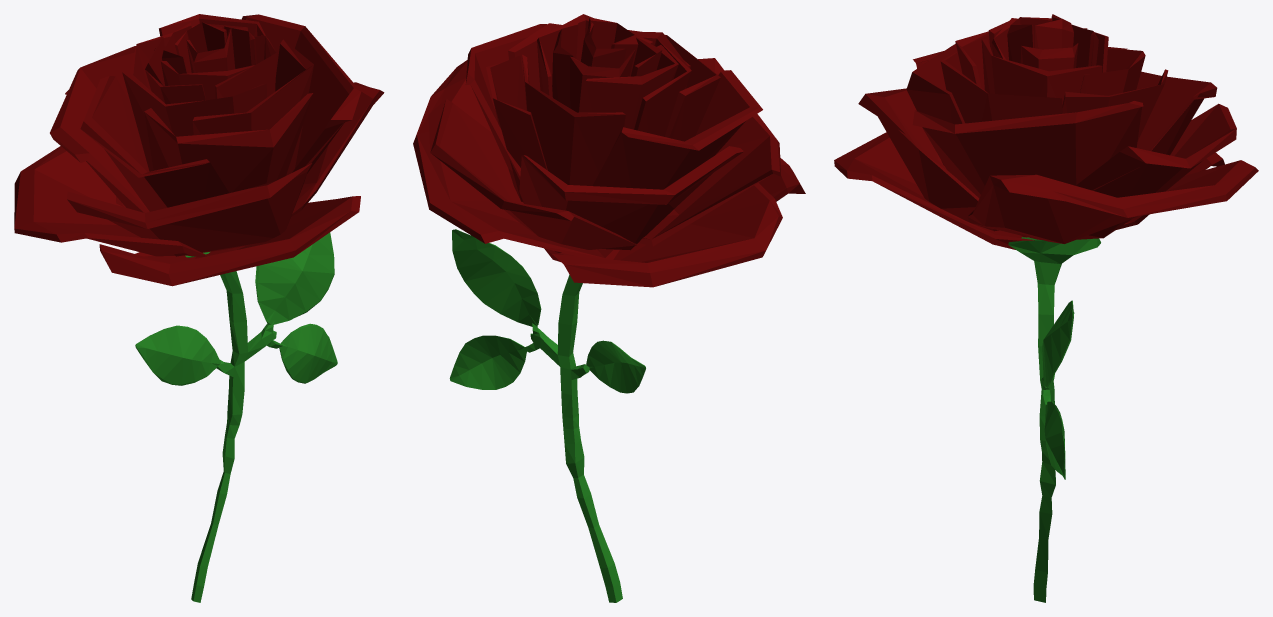
File: rose.obj
3 renders of one model, left to right at view 1: azimuth 30°, elevation 25°; view 2: azimuth 150°, elevation 25°; view 3: azimuth 270°, elevation 25°, orthographic. The views are drawn at different scales.
Parts seen in each view (by area): view 1: rose pCube4, rose pCube21, rose pCube12, rose pCube20, rose pCube6, rose pCube3, rose pCube22 rose_bottom, rose pCube5, rose rose_bottom pCube23, rose pCube7, rose pCube13, rose rose_bottom pCube25 (+11 smaller); view 2: rose pCube21, rose pCube26, rose pCube6, rose pCube19, rose pCube5, rose pCube22 rose_bottom, rose pCube8, rose pCube4, rose rose_bottom pCube23, rose pCube11, rose rose_bottom pCube24, rose pCube9 (+12 smaller); view 3: rose pCube3, rose pCube19, rose pCube26, rose pCube22 rose_bottom, rose pCube4, rose pCube20, rose pCube5, rose pCube7, rose pCube14, rose pCube12, rose pCube8, rose pCube11 (+8 smaller).
Part boxes in pixels (<box>): rose pCube4: <box>67,163,312,256</box>; rose pCube21: <box>14,146,207,257</box>; rose pCube12: <box>144,93,313,192</box>; rose pCube20: <box>99,196,360,286</box>; rose pCube6: <box>80,76,229,211</box>; rose pCube3: <box>241,14,360,173</box>; rose pCube22 rose_bottom: <box>185,252,282,602</box>; rose pCube5: <box>50,46,149,212</box>; rose rose_bottom pCube23: <box>255,232,334,324</box>; rose pCube7: <box>192,39,313,175</box>; rose pCube13: <box>122,71,266,171</box>; rose rose_bottom pCube25: <box>135,325,220,385</box>; rose pCube21: <box>544,182,782,287</box>; rose pCube26: <box>428,98,636,252</box>; rose pCube6: <box>592,70,762,189</box>; rose pCube19: <box>413,60,619,259</box>; rose pCube5: <box>519,146,743,250</box>; rose pCube22 rose_bottom: <box>521,274,622,602</box>; rose pCube8: <box>522,54,625,185</box>; rose pCube4: <box>638,58,781,246</box>; rose rose_bottom pCube23: <box>452,229,541,326</box>; rose pCube11: <box>486,55,547,201</box>; rose rose_bottom pCube24: <box>449,335,526,389</box>; rose pCube9: <box>580,45,678,129</box>; rose pCube3: <box>912,101,1143,236</box>; rose pCube19: <box>967,160,1258,243</box>; rose pCube26: <box>1076,103,1236,239</box>; rose pCube22 rose_bottom: <box>1008,237,1100,602</box>; rose pCube4: <box>858,88,1014,235</box>; rose pCube20: <box>834,132,1034,249</box>; rose pCube5: <box>1136,71,1217,155</box>; rose pCube7: <box>940,51,1062,123</box>; rose pCube14: <box>981,39,1102,104</box>; rose pCube12: <box>906,43,965,165</box>; rose pCube8: <box>1080,48,1145,95</box>; rose pCube11: <box>1062,69,1168,140</box>.
Size of the model in its own units: 28.38 by 45.61 by 29.67.
